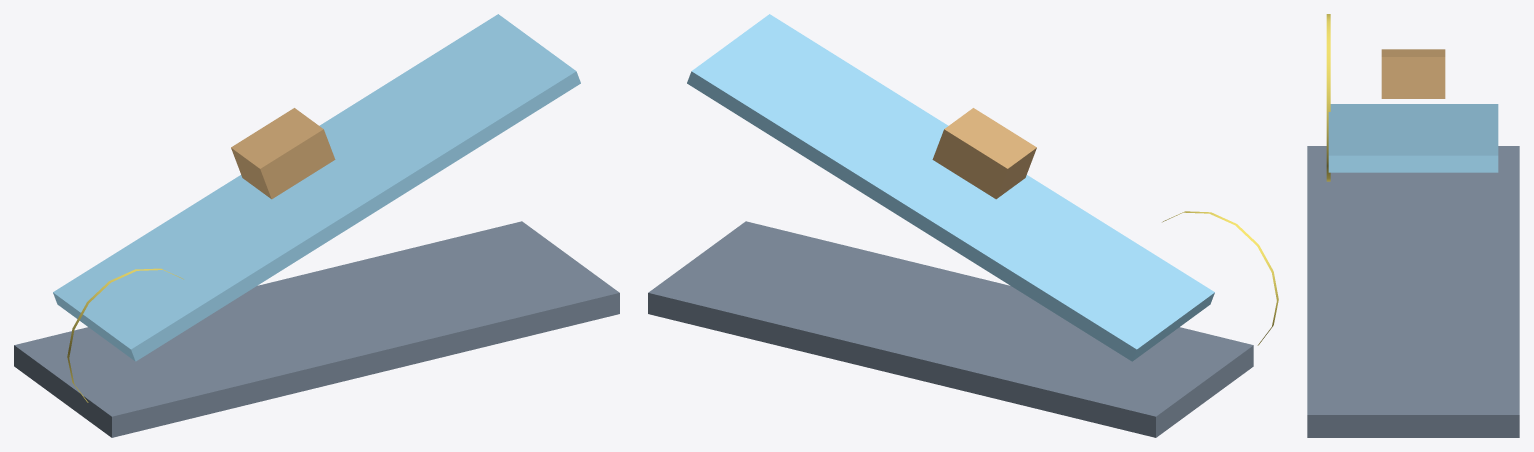
The model's file is friction_inclined_plane_coefficient.glb.
The picture shows the model from 3 angles, left to right: view 1: azimuth 30°, elevation 25°; view 2: azimuth 150°, elevation 25°; view 3: azimuth 270°, elevation 25°; orthographic projection. The views are drawn at different scales.
Visible parts, largest first — view 1: HeavyCastIronBaseFrame, AdjustableInclinedGlassPlane, SlidingWoodenFrictionBlock; view 2: HeavyCastIronBaseFrame, AdjustableInclinedGlassPlane, SlidingWoodenFrictionBlock; view 3: HeavyCastIronBaseFrame, AdjustableInclinedGlassPlane, SlidingWoodenFrictionBlock, GraduatedProtractorScaleArc.
Part boxes in pixels (x1,y1,x2,y2): HeavyCastIronBaseFrame: [14, 221, 619, 437]; AdjustableInclinedGlassPlane: [53, 14, 580, 361]; SlidingWoodenFrictionBlock: [231, 108, 335, 199]; HeavyCastIronBaseFrame: [648, 221, 1253, 437]; AdjustableInclinedGlassPlane: [687, 14, 1214, 361]; SlidingWoodenFrictionBlock: [932, 108, 1036, 199]; HeavyCastIronBaseFrame: [1307, 146, 1519, 437]; AdjustableInclinedGlassPlane: [1328, 104, 1498, 172]; SlidingWoodenFrictionBlock: [1381, 49, 1445, 98]; GraduatedProtractorScaleArc: [1326, 14, 1330, 181].
Bounding box in the file's own units: 1.6 × 0.6881 × 0.5.
